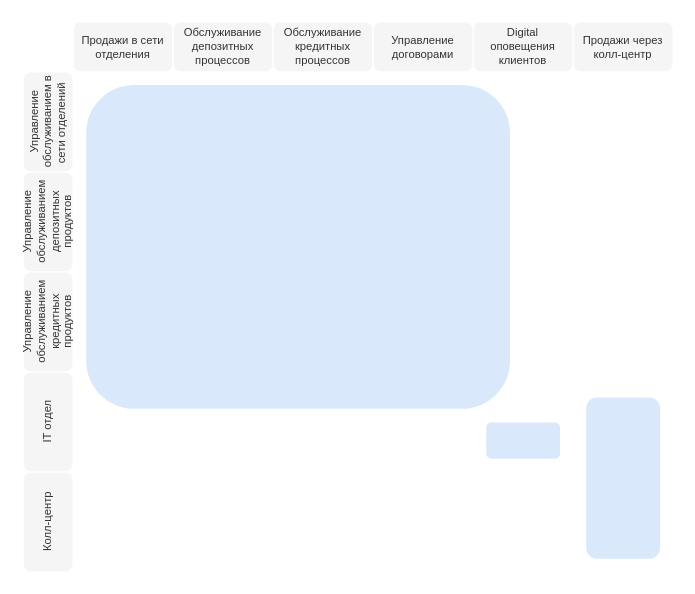
This 695x594 diagram has some shape labels left out. The box of each missing label's shape, as (x1, y1, x2, y2) in pixels:
АБС: (84, 83, 511, 409)
Система колл-центра: (584, 396, 661, 559)
СМС-шлюз: (484, 421, 561, 459)
